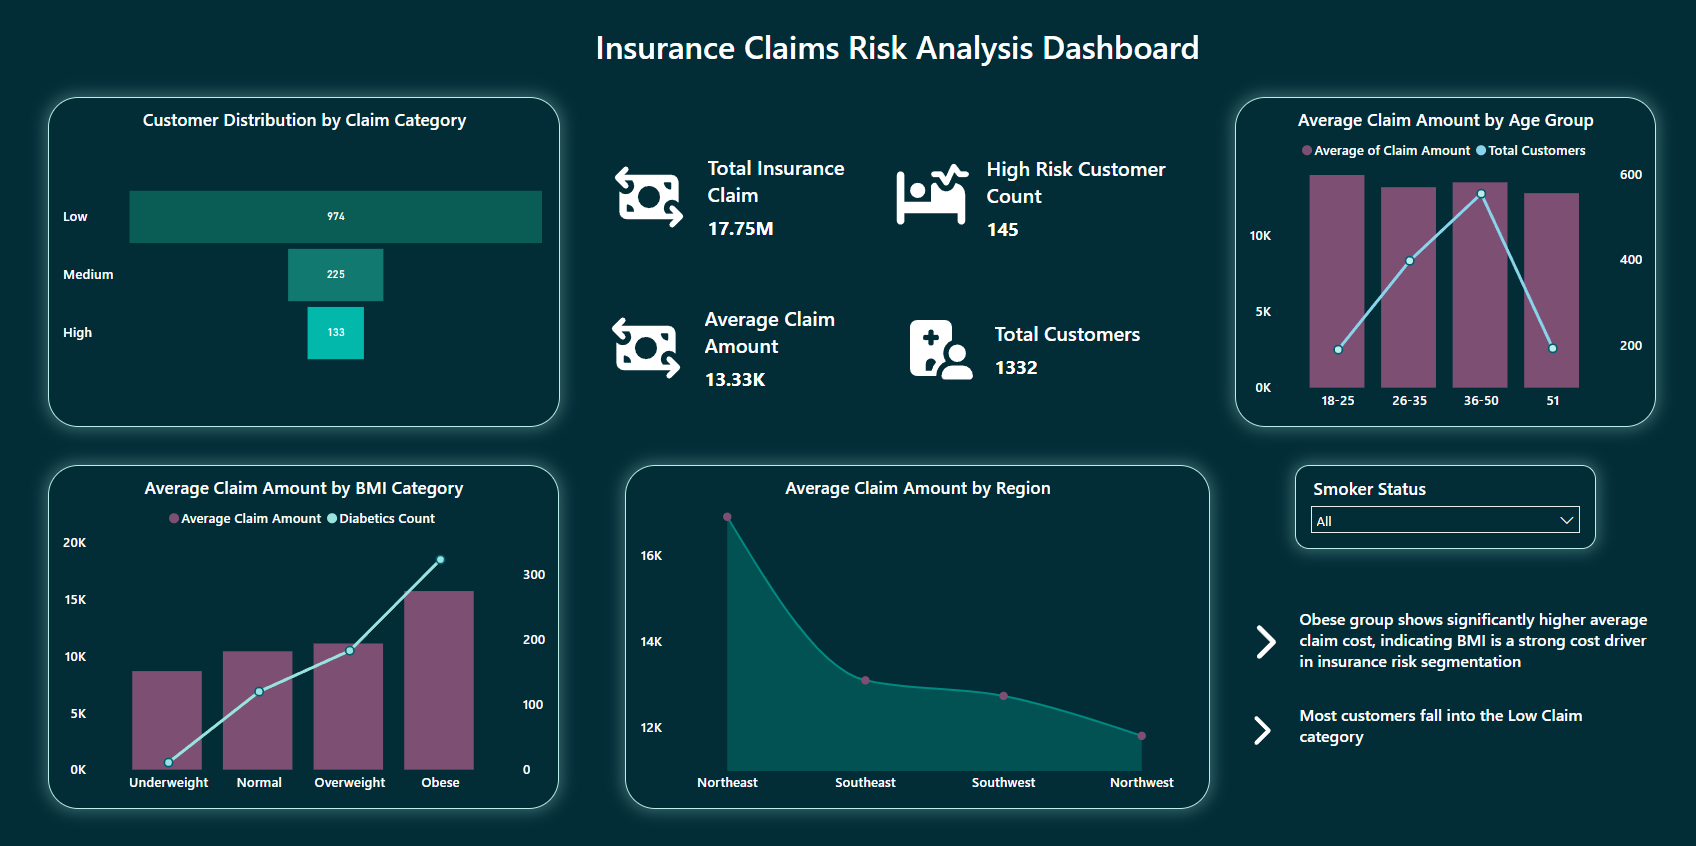

The page's visual inventory and layout, read from the dashboard file:
{"tool":"powerbi","page":{"name":"Dashboard","canvas":[1700,850],"ordinal":0},"visuals":[{"type":"lineClusteredColumnComboChart","title":"Average Claim Amount by Age Group","fields":{"Category":["Insurance Claim.Age Group","Insurance Claim.Age"],"Y":["Avg(Insurance Claim.Claim Amount)"],"Y2":["Insurance Claim.Total Customers"]},"box":[1235,98,421,330],"z":0},{"type":"image","box":[1235,604,58,77.9],"z":0,"group":"g9"},{"type":"group","id":"g1","title":"Group 5","box":[1295,700,331,61],"z":0,"group":"g2"},{"type":"lineClusteredColumnComboChart","title":"Average Claim Amount by BMI Category","fields":{"Category":["Insurance Claim.BMI Category","Insurance Claim.BMI"],"Y2":["Insurance Claim.Diabetic Status Count"],"Y":["Avg(Insurance Claim.Claim Amount)"]},"box":[47.5,466.3,511.7,343.3],"z":1000},{"type":"image","box":[1235,692,51,78],"z":1000,"group":"g2"},{"type":"textbox","box":[1295,700,330.6,60.9],"z":1000,"group":"g1"},{"type":"lineChart","title":"Average Claim Amount by Region","fields":{"Category":["Insurance Claim.Region"],"Y":["Avg(Insurance Claim.Claim Amount)"]},"box":[625,466,585,344],"z":2000},{"type":"textbox","box":[1295,604,368,96],"z":2000,"group":"g9"},{"type":"textbox","box":[578,20,640,60],"z":3000},{"type":"group","id":"g2","title":"Group 9","box":[1235,692,391,78],"z":3000,"group":"g4"},{"type":"funnel","title":"Customer Distribution by Claim Category","fields":{"Category":["Insurance Claim.Claim Amount Category","Insurance Claim.Claim Amount (bins)"],"Y":["CountNonNull(Insurance Claim.Claim Amount Category)"]},"box":[48,98,512,330],"z":4000},{"type":"cardVisual","fields":{"Data":["Insurance Claim.Total Claim"]},"box":[690.9,133,177.5,129.2],"z":4000,"group":"g3"},{"type":"cardVisual","fields":{"Data":["Insurance Claim.Average Claim Amount"]},"box":[688,283.6,195,129],"z":4000,"group":"g6"},{"type":"cardVisual","fields":{"Data":["Insurance Claim.Total Customers"]},"box":[978,290.6,187.5,116.7],"z":5000,"group":"g7"},{"type":"slicer","fields":{"Values":["Insurance Claim.Smoker Status"]},"box":[1295,466,301,84],"z":5000},{"type":"group","id":"g3","title":"Group 1","box":[606.7,133,261.7,129.2],"z":6000,"group":"g5"},{"type":"cardVisual","fields":{"Data":["Insurance Claim.High Claim Count"]},"box":[970,143.6,217.6,109.2],"z":6000,"group":"g8"},{"type":"group","id":"g4","title":"Group 8","box":[1235,604,428,166],"z":6000},{"type":"group","id":"g5","title":"Group 10","box":[604,133,584,280],"z":7000},{"type":"group","id":"g6","title":"Group 1","box":[604,283.6,279,129],"z":7000,"group":"g5"},{"type":"group","id":"g7","title":"Group 2","box":[898,290.6,267,117],"z":8000,"group":"g5"},{"type":"image","box":[898,298.9,80,99.2],"z":8001,"group":"g7"},{"type":"image","box":[606.7,153,84.2,90],"z":8003,"group":"g3"},{"type":"image","box":[604,303.6,84.2,90],"z":8003,"group":"g6"},{"type":"image","box":[873,155.3,116.7,85.8],"z":8006,"group":"g8"},{"type":"group","id":"g8","title":"Group 3","box":[873,143.6,315,110],"z":9000,"group":"g5"},{"type":"group","id":"g9","title":"Group 7","box":[1235,604,428,96],"z":12000,"group":"g4"}]}

Visuals, with their boxes in screenshot pixels (x1, y1, x2, y2), scaled from the page's 1700x850 canvas onto the 1696x846 screenshot:
"Average Claim Amount by Age Group" lineClusteredColumnComboChart: (x1=1232, y1=98, x2=1652, y2=426)
image: (x1=1232, y1=601, x2=1290, y2=679)
"Group 5" group: (x1=1292, y1=697, x2=1622, y2=757)
"Average Claim Amount by BMI Category" lineClusteredColumnComboChart: (x1=47, y1=464, x2=558, y2=806)
image: (x1=1232, y1=689, x2=1283, y2=766)
textbox: (x1=1292, y1=697, x2=1622, y2=757)
"Average Claim Amount by Region" lineChart: (x1=624, y1=464, x2=1207, y2=806)
textbox: (x1=1292, y1=601, x2=1659, y2=697)
textbox: (x1=577, y1=20, x2=1215, y2=80)
"Group 9" group: (x1=1232, y1=689, x2=1622, y2=766)
"Customer Distribution by Claim Category" funnel: (x1=48, y1=98, x2=559, y2=426)
cardVisual - Insurance Claim.Total Claim: (x1=689, y1=132, x2=866, y2=261)
cardVisual - Insurance Claim.Average Claim Amount: (x1=686, y1=282, x2=881, y2=411)
cardVisual - Insurance Claim.Total Customers: (x1=976, y1=289, x2=1163, y2=405)
slicer - Insurance Claim.Smoker Status: (x1=1292, y1=464, x2=1592, y2=547)
"Group 1" group: (x1=605, y1=132, x2=866, y2=261)
cardVisual - Insurance Claim.High Claim Count: (x1=968, y1=143, x2=1185, y2=252)
"Group 8" group: (x1=1232, y1=601, x2=1659, y2=766)
"Group 10" group: (x1=603, y1=132, x2=1185, y2=411)
"Group 1" group: (x1=603, y1=282, x2=881, y2=411)
"Group 2" group: (x1=896, y1=289, x2=1162, y2=406)
image: (x1=896, y1=297, x2=976, y2=396)
image: (x1=605, y1=152, x2=689, y2=242)
image: (x1=603, y1=302, x2=687, y2=392)
image: (x1=871, y1=155, x2=987, y2=240)
"Group 3" group: (x1=871, y1=143, x2=1185, y2=252)
"Group 7" group: (x1=1232, y1=601, x2=1659, y2=697)
